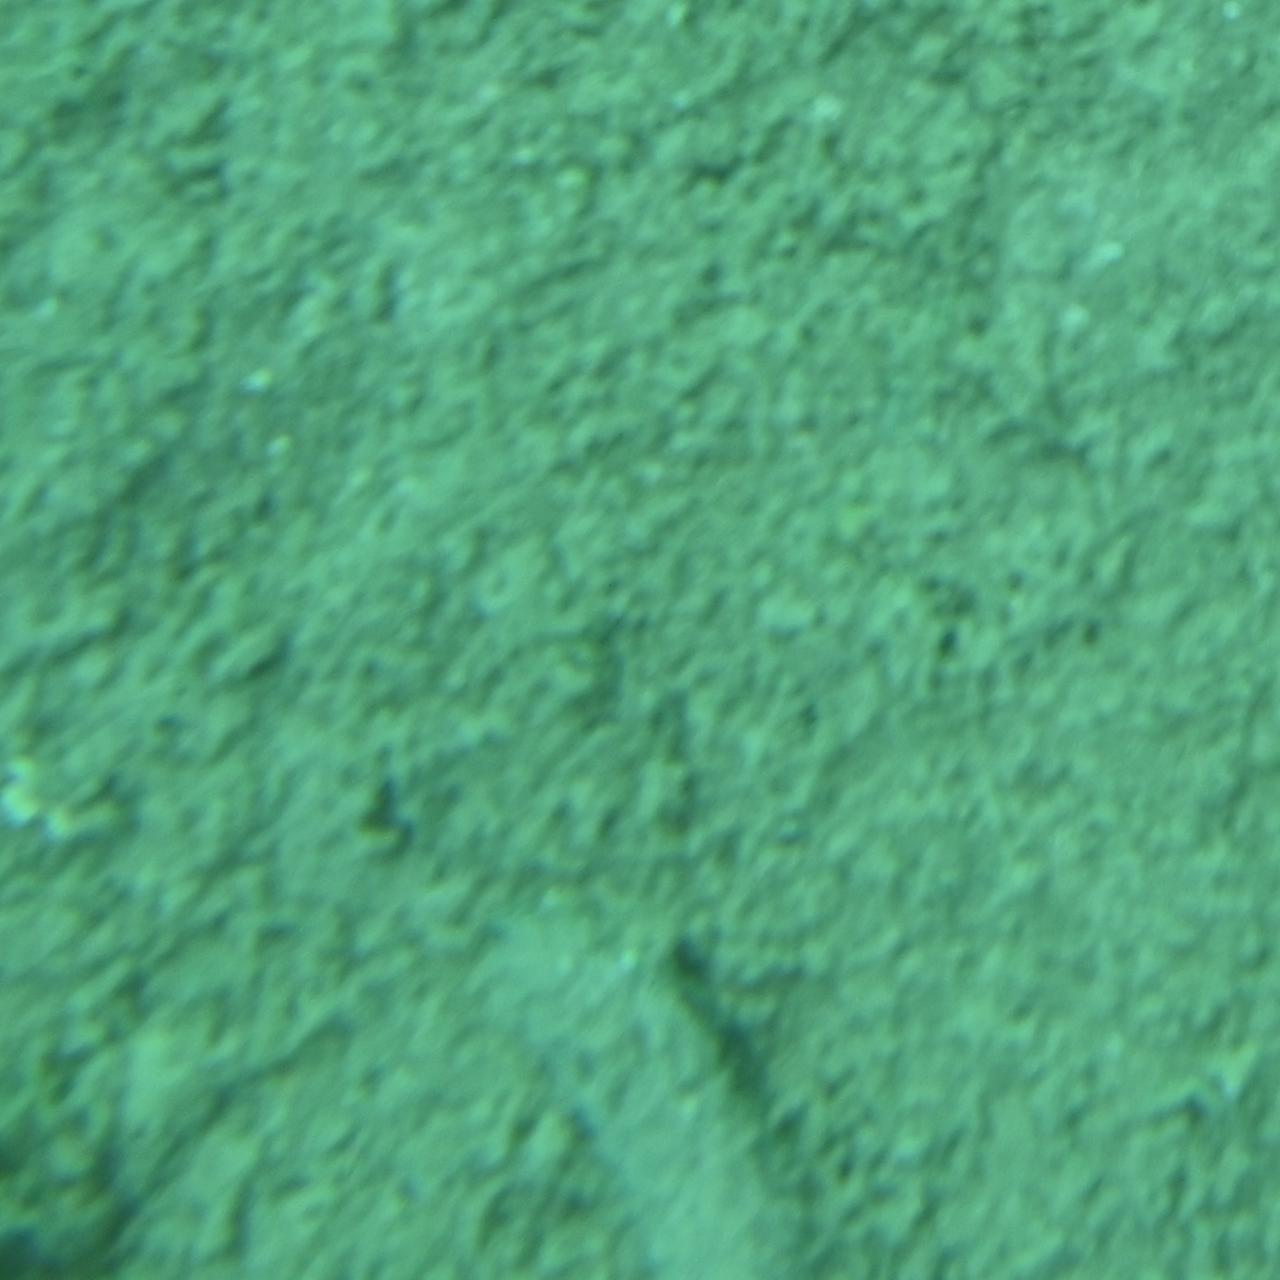Holothuria tubulosa: (454, 871, 826, 1279)
